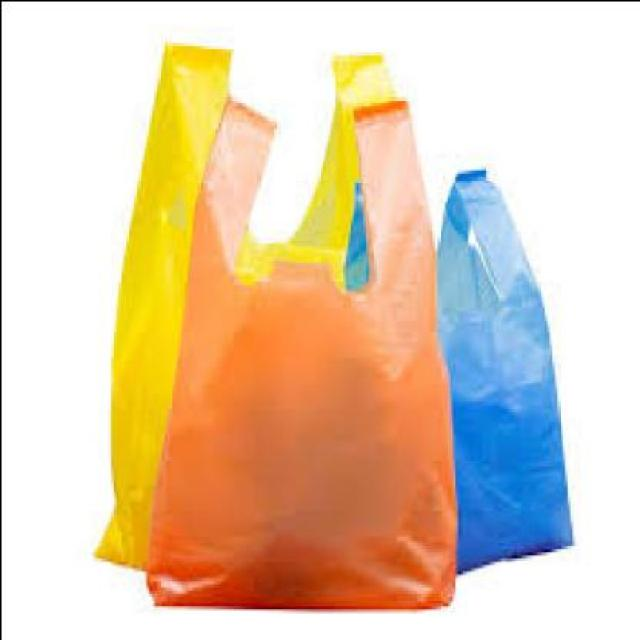PLASTIC: (94, 41, 400, 564), (149, 96, 456, 604), (344, 165, 576, 573)
